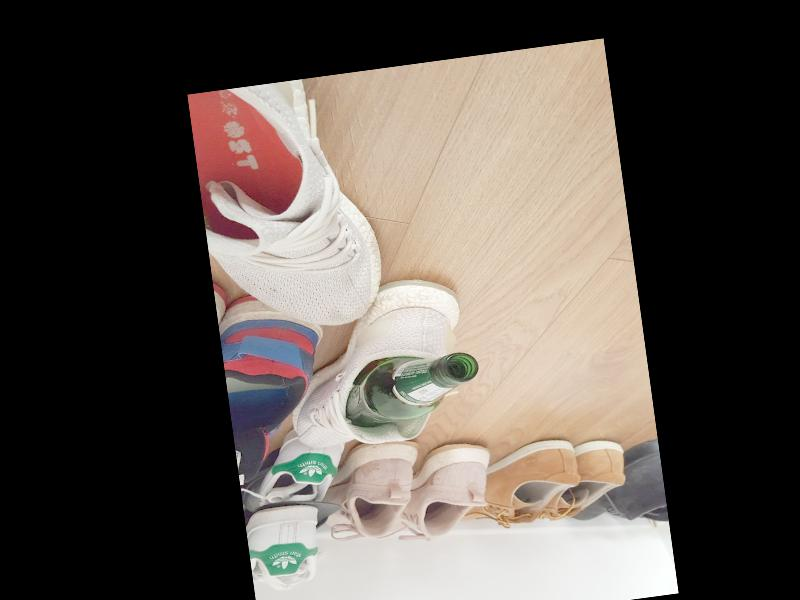Beer: (341, 348, 485, 430)
